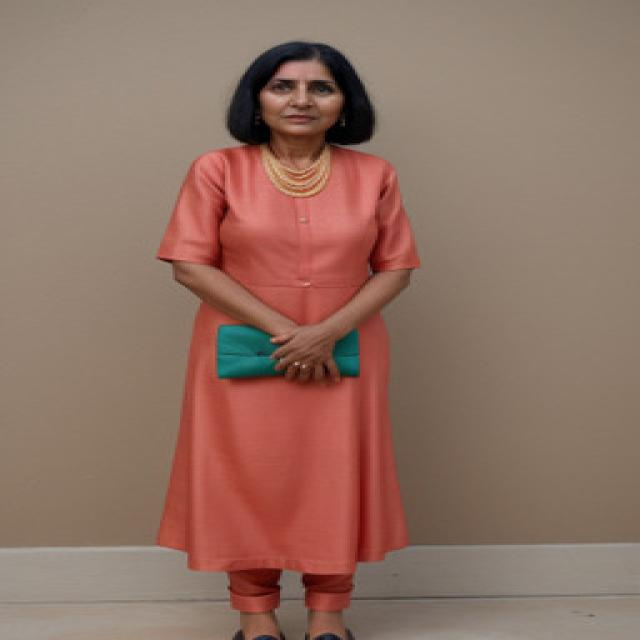Ai human 2: (152, 33, 452, 640)
